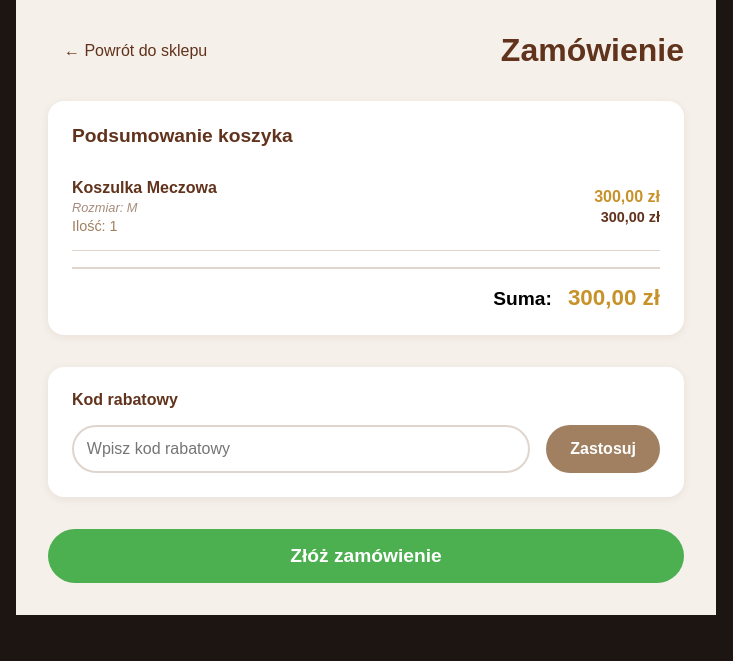
Test: Order Component › should reject invalid discount code
Type "ZLYKOD" into the field with placeholder "Wpisz kod rabatowy" at (301, 449), box [72,425,530,473]
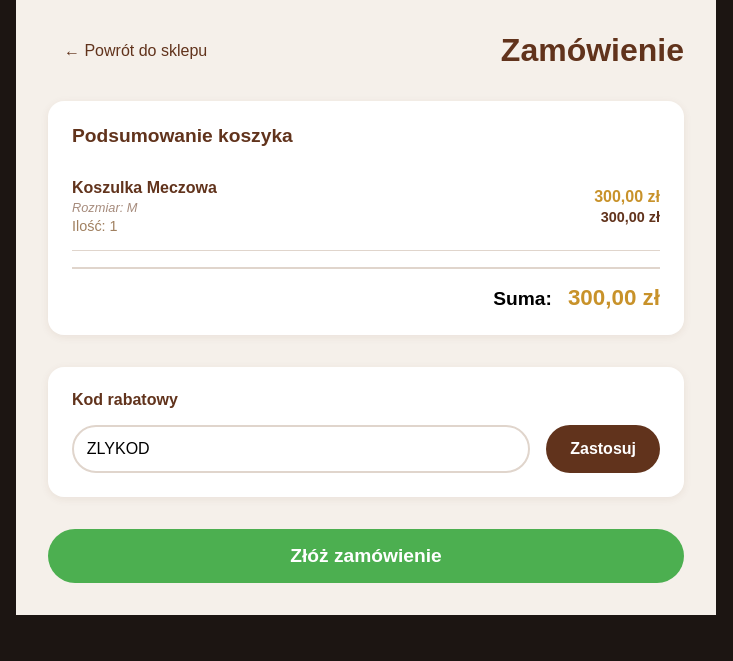
Click the button "Zastosuj" at (603, 449), box [546,425,660,473]
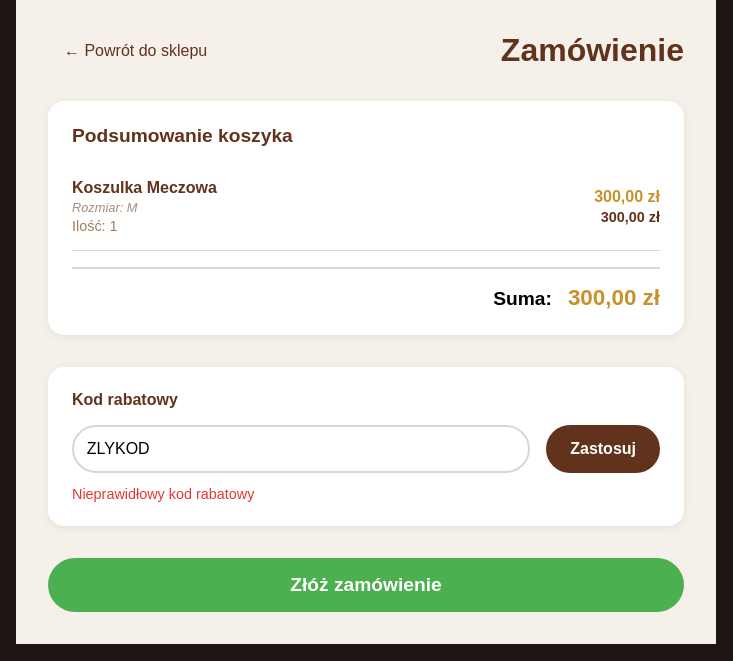
Now the text "Nieprawidłowy kod rabatowy" is shown, box [72,486,254,502]
